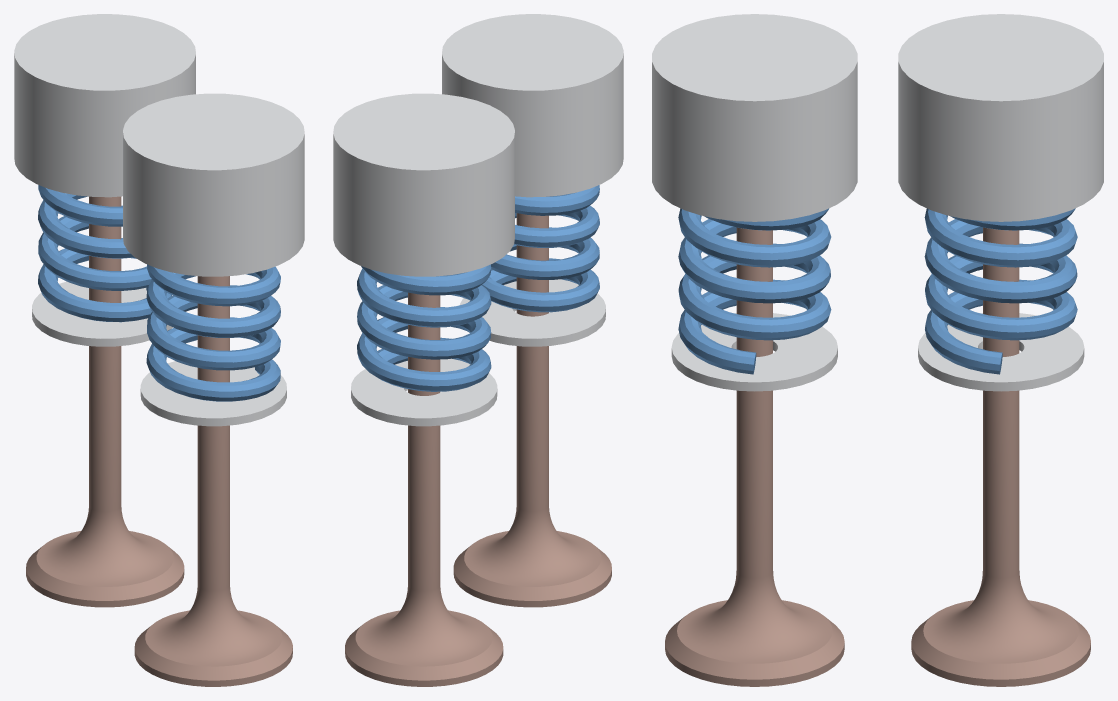
File: valve_ex.glb
3 views of the same model, side by side, from view 1: azimuth 30°, elevation 25°; view 2: azimuth 150°, elevation 25°; view 3: azimuth 270°, elevation 25° (orthographic). The views are drawn at different scales.
Parts seen in each view (by area): view 1: polished_1, valve_ex_0, spring_2; view 2: polished_1, valve_ex_0, spring_2; view 3: polished_1, valve_ex_0, spring_2.
Part boxes in pixels (x1,y1,x2,y2): polished_1: [14, 14, 304, 426]; valve_ex_0: [26, 196, 292, 686]; spring_2: [38, 185, 280, 401]; polished_1: [333, 14, 623, 426]; valve_ex_0: [345, 213, 611, 686]; spring_2: [357, 185, 599, 391]; polished_1: [652, 14, 1103, 391]; valve_ex_0: [665, 227, 1090, 686]; spring_2: [678, 208, 1077, 374].
Size of the model in its own units: 0.031 by 0.098 by 0.0679.
